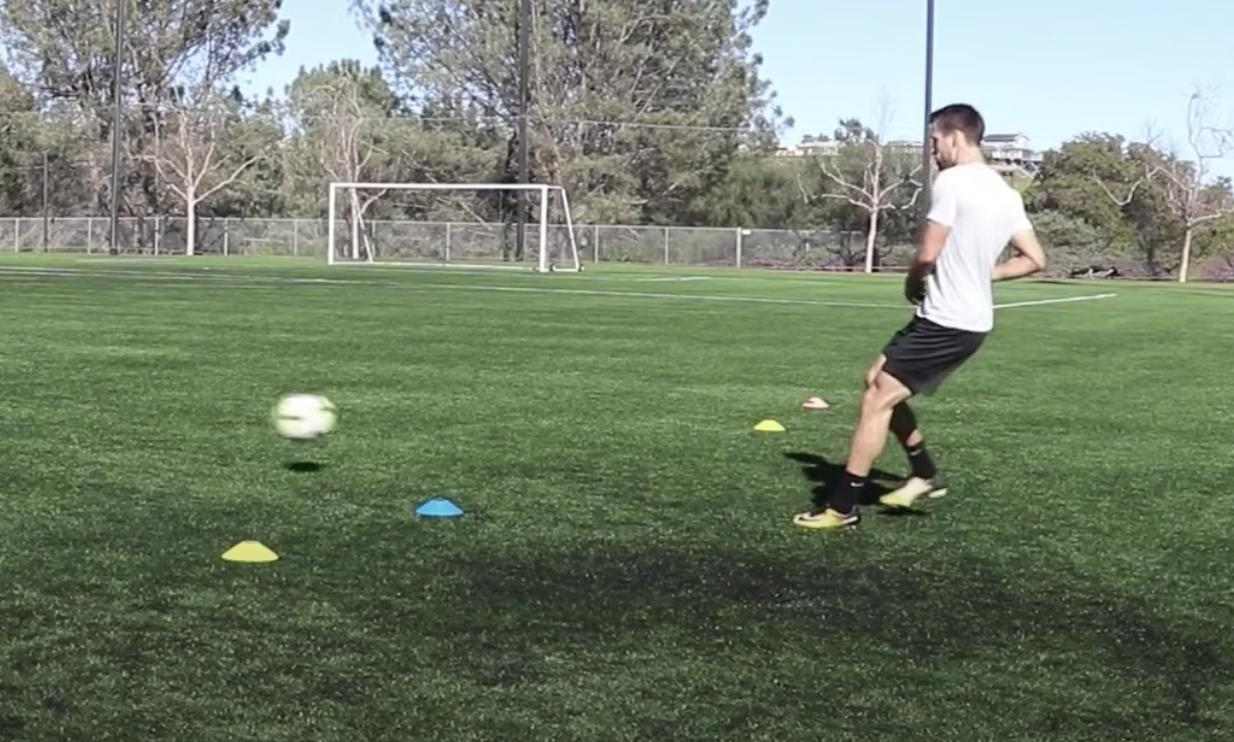ball: (268, 398, 336, 440)
foot: (880, 470, 946, 515), (792, 497, 859, 531)
person: (795, 106, 1046, 531)
